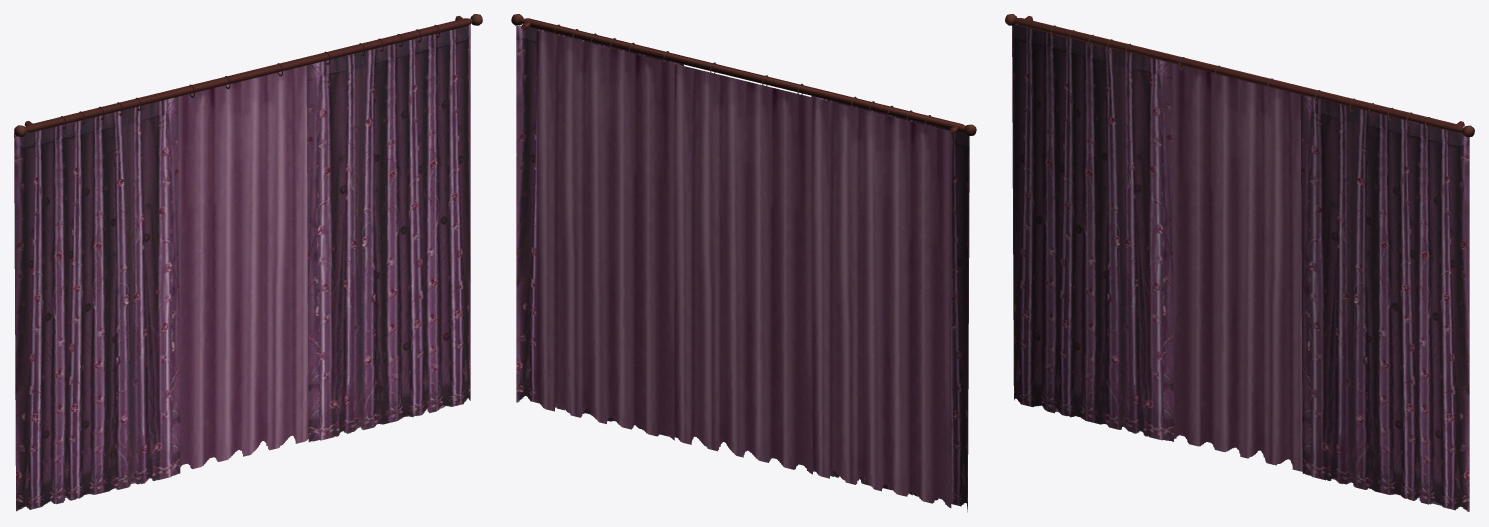
Rendered from furni_0200766.FBX.
The picture shows the model from 3 angles, left to right: view 1: azimuth 30°, elevation 25°; view 2: azimuth 150°, elevation 25°; view 3: azimuth 330°, elevation 25°; orthographic projection.
Parts seen in each view (by area): view 1: furni_0200766; view 2: furni_0200766; view 3: furni_0200766.
Part boxes in pixels (box(x1,y1,x2,y2)): furni_0200766: box(14, 14, 482, 511); furni_0200766: box(511, 14, 976, 512); furni_0200766: box(1005, 14, 1474, 511).
Size of the model in its own units: 353 by 280 by 13.37.
2 materials, 2 textured.
